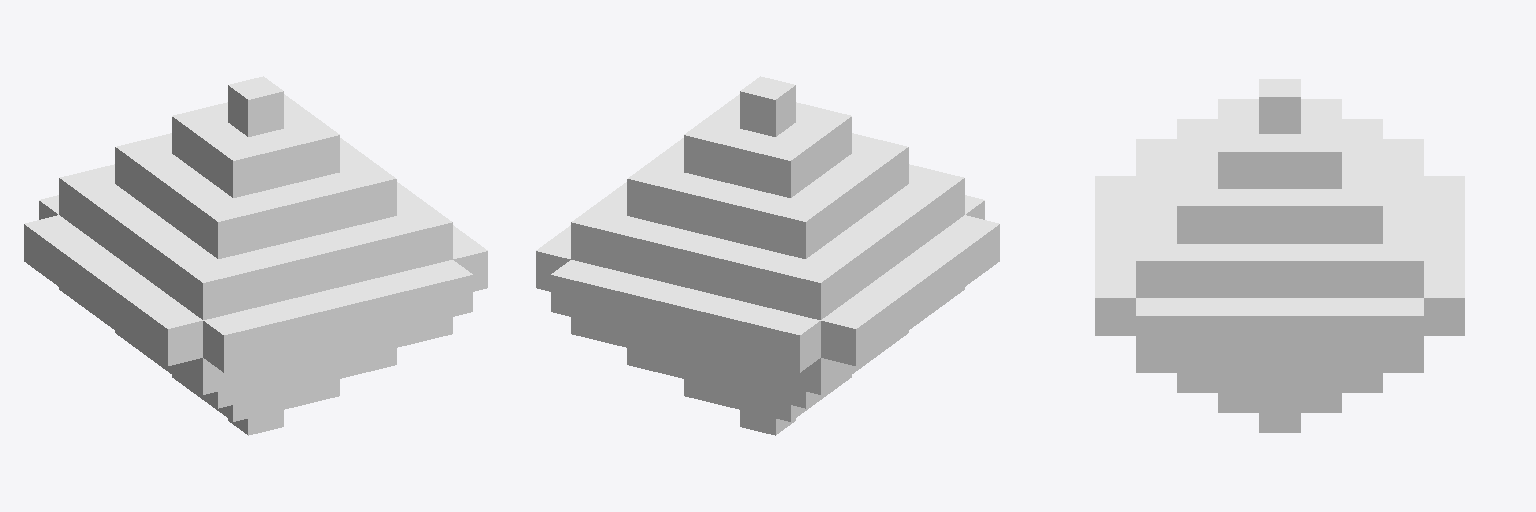
Rendered from turret-2.obj.
3 views of the same model, side by side, from view 1: azimuth 30°, elevation 25°; view 2: azimuth 150°, elevation 25°; view 3: azimuth 270°, elevation 25° (orthographic).
Visible parts, largest first — view 1: object 1; view 2: object 1; view 3: object 1.
Part boxes in pixels (x1,y1,x2,y2): object 1: (24, 76, 487, 435); object 1: (536, 76, 999, 435); object 1: (1095, 79, 1464, 432).
Size of the model in its own units: 0.9 by 0.9 by 0.9.